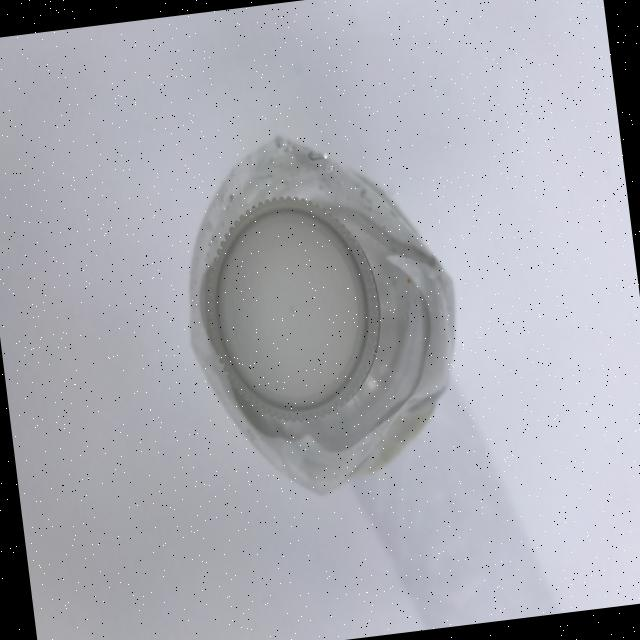plastic: (166, 114, 477, 510)
